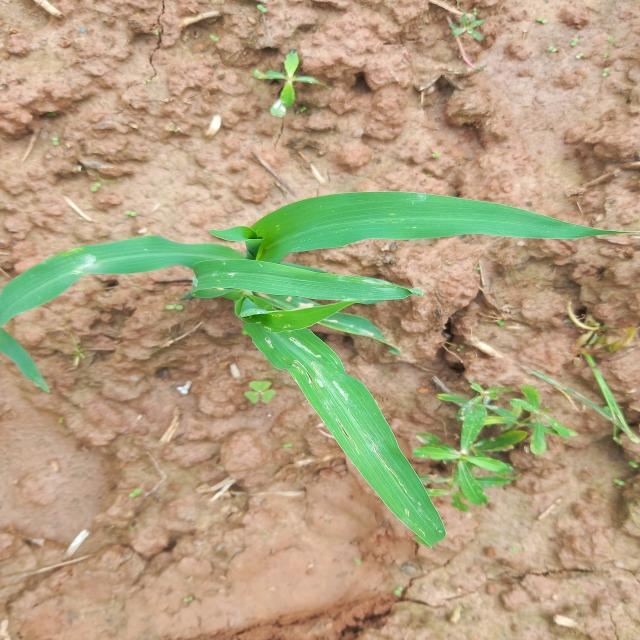maize: (26, 179, 418, 509)
weed: (431, 363, 640, 496), (254, 51, 313, 90)
